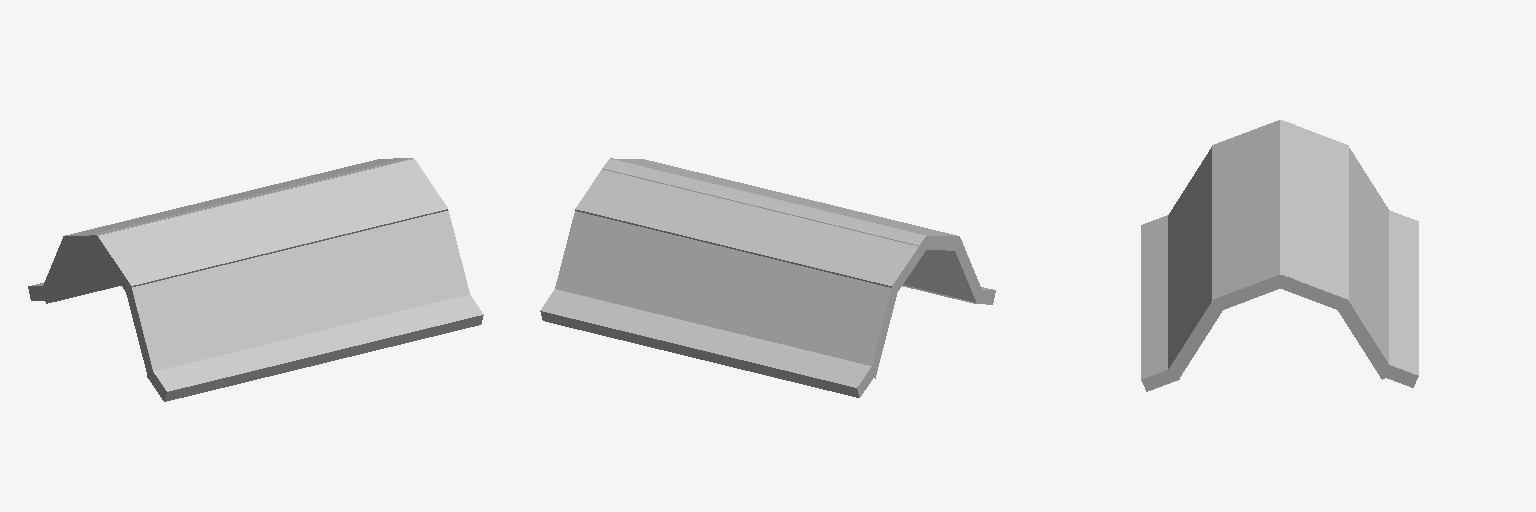
Rendered from barnroof.obj.
3 views of the same model, side by side, from view 1: azimuth 30°, elevation 25°; view 2: azimuth 150°, elevation 25°; view 3: azimuth 270°, elevation 25° (orthographic).
Parts seen in each view (by area): view 1: Cube.002; view 2: Cube.002; view 3: Cube.002.
Boxes of the visible parts, x1,y1,x2,y2 form: Cube.002: [28, 158, 483, 401]; Cube.002: [540, 158, 995, 397]; Cube.002: [1141, 120, 1418, 391].
Bounding box in the file's own units: 10 × 3.54 × 7.59.